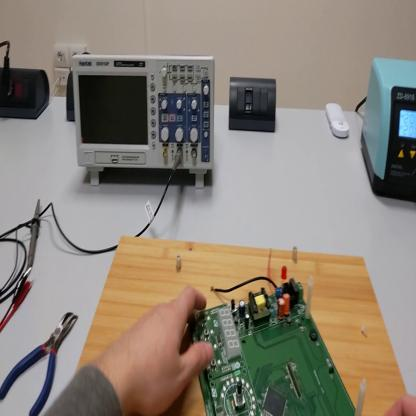hand: (114, 287, 211, 415), (386, 393, 416, 416)
low voltage board: (192, 249, 369, 416)
oscilloscope: (76, 56, 217, 190)
oscilloscope probe tip: (27, 198, 43, 270)
pliers: (2, 313, 77, 415)
socket: (2, 65, 51, 123), (69, 68, 76, 123)
welder station: (361, 62, 415, 206)
working area: (73, 235, 406, 414)
